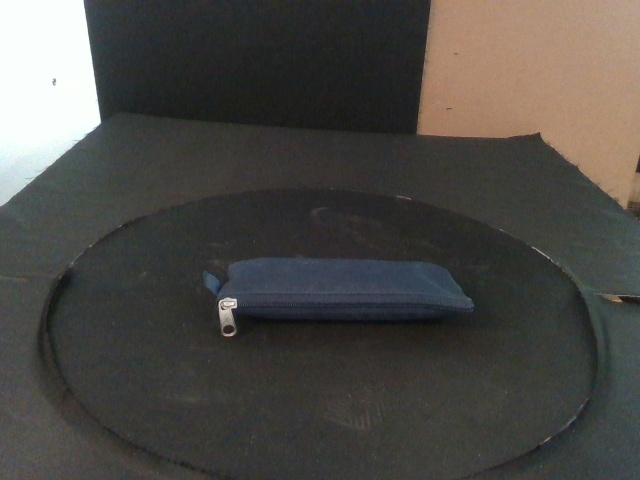pencil_case: (215, 259, 476, 328)
